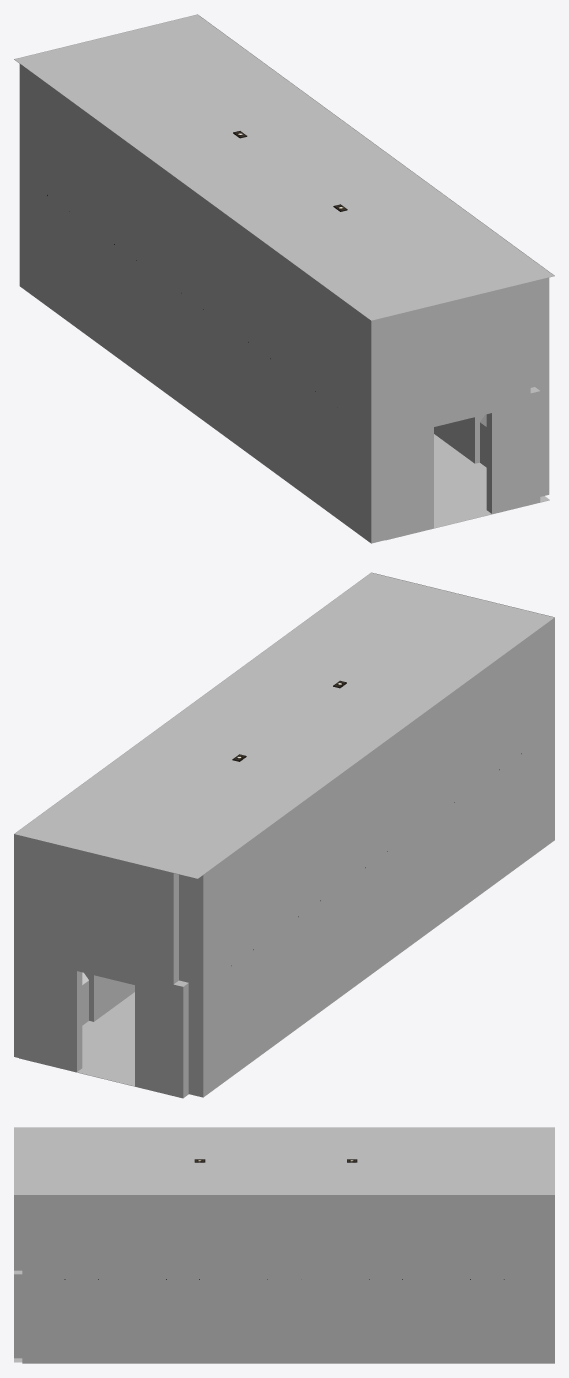
The model's file is LC_room2.obj.
The picture shows the model from 3 angles, top to bottom: view 1: azimuth 30°, elevation 25°; view 2: azimuth 150°, elevation 25°; view 3: azimuth 270°, elevation 25°; orthographic projection. The views are drawn at different scales.
Visible parts, largest first — view 1: LC_room2; view 2: LC_room2; view 3: LC_room2.
Part boxes in pixels (x1=…): LC_room2: x1=14, y1=14, x2=554, y2=543; LC_room2: x1=14, y1=572, x2=554, y2=1098; LC_room2: x1=14, y1=1127, x2=554, y2=1363.
Size of the model in its own units: 6.08 by 7.08 by 20.48.
